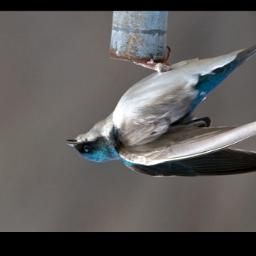Swallow: (63, 29, 256, 181)
